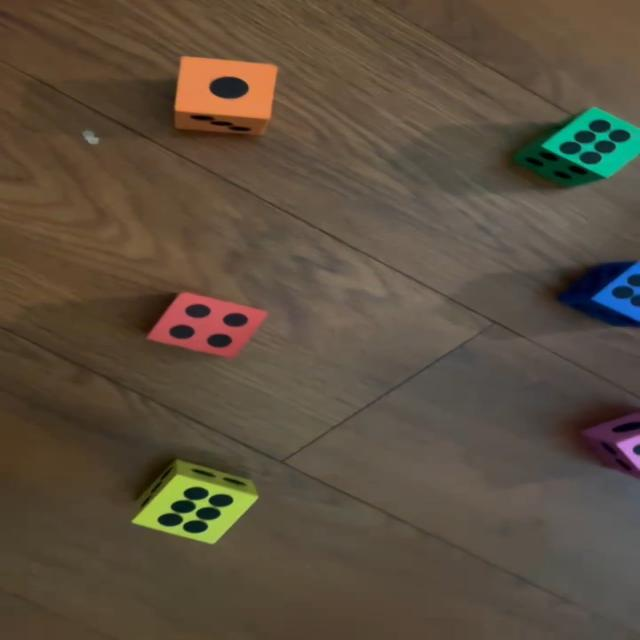blue_block: (558, 261, 640, 328)
red_block: (146, 293, 270, 359)
